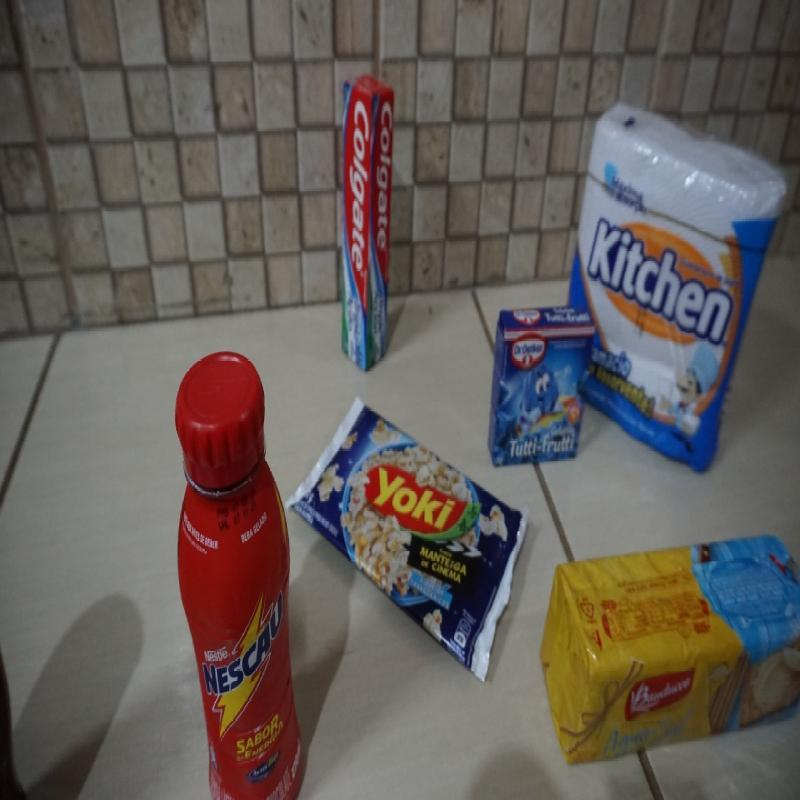Chocolate Milk: (175, 345, 312, 800), (170, 347, 304, 797)
Cracker: (542, 536, 800, 780), (539, 527, 796, 769)
Gelatine: (480, 310, 590, 484), (484, 303, 597, 468)
Napkin: (571, 85, 786, 474), (568, 104, 788, 478)
Popcorn: (287, 396, 532, 688), (296, 398, 522, 682)
Toothpaste: (342, 68, 398, 382), (339, 70, 394, 376)
